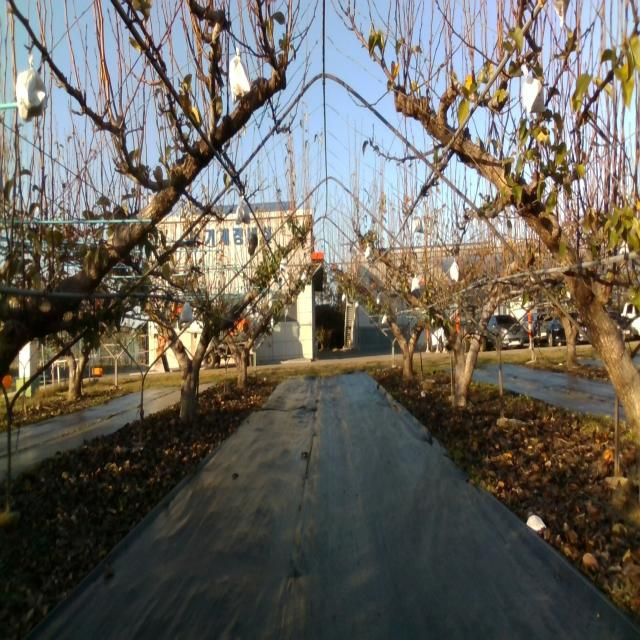pearbags: (11, 56, 50, 125), (520, 60, 546, 113), (229, 48, 251, 101), (235, 197, 252, 226), (179, 302, 193, 324), (412, 209, 423, 233)
